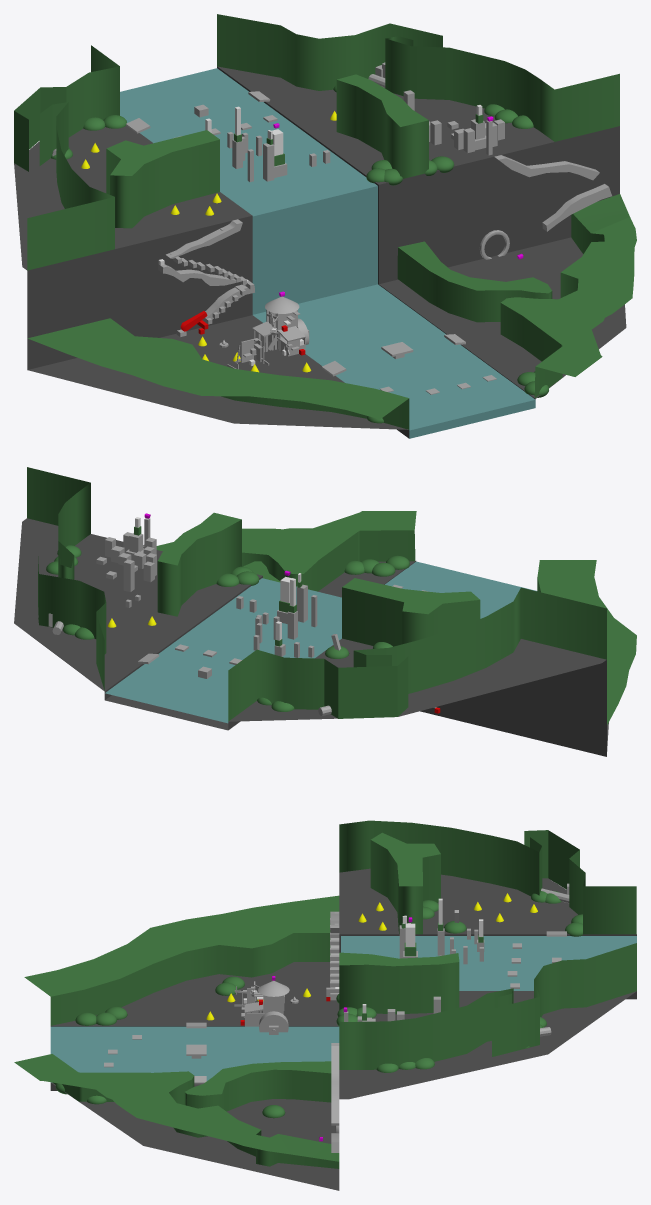
Rendered from Mill set.fbx.
3 views of the same model, one above another, from view 1: azimuth 30°, elevation 25°; view 2: azimuth 150°, elevation 25°; view 3: azimuth 270°, elevation 25° (orthographic). The views are drawn at different scales.
Visible parts, largest first — view 1: Ground, Water, polySurface3, polySurface2, polySurface1, polySurface4, polySurface5, polySurface6; view 2: Ground, polySurface2, Water, polySurface3, polySurface1, polySurface4; view 3: Ground, polySurface3, Water, polySurface4, polySurface2, polySurface1, polySurface5.
Part boxes in pixels (left/top/right/bottom): Ground: left=14, top=66, right=626, bottom=438; Water: left=120, top=68, right=535, bottom=438; polySurface3: left=217, top=14, right=619, bottom=178; polySurface2: left=14, top=45, right=219, bottom=270; polySurface1: left=397, top=194, right=636, bottom=397; polySurface4: left=27, top=318, right=409, bottom=429; polySurface5: left=494, top=155, right=611, bottom=231; polySurface6: left=158, top=219, right=254, bottom=319; Ground: left=14, top=518, right=608, bottom=756; polySurface2: left=228, top=578, right=606, bottom=721; Water: left=105, top=561, right=536, bottom=723; polySurface3: left=27, top=467, right=241, bottom=690; polySurface1: left=156, top=511, right=416, bottom=591; polySurface4: left=537, top=560, right=636, bottom=724; Ground: left=50, top=868, right=636, bottom=1190; polySurface3: left=339, top=943, right=636, bottom=1069; Water: left=50, top=936, right=636, bottom=1082; polySurface4: left=24, top=895, right=339, bottom=1025; polySurface2: left=339, top=820, right=636, bottom=934; polySurface1: left=14, top=1054, right=339, bottom=1168; polySurface5: left=331, top=1043, right=339, bottom=1152.
Size of the model in its own units: 150 by 40.93 by 149.
